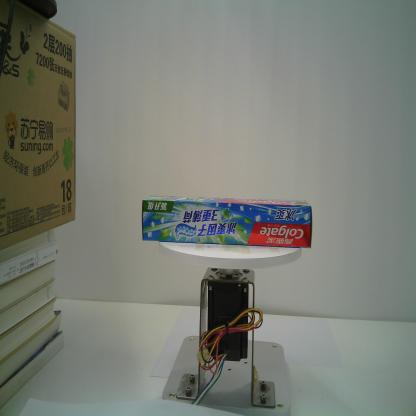Personal Hygiene: (141, 196, 312, 250)
